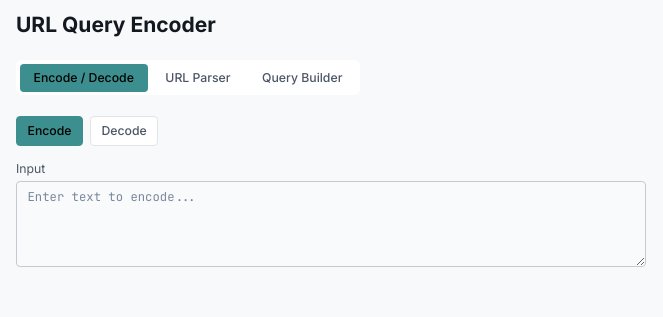
Test case: UrlQueryEncoder › Query Builder tab shows Add Row button when clicked
This screenshot has width=663, height=317.
Click the button "Query Builder": (302, 78) [248,64,356,92]
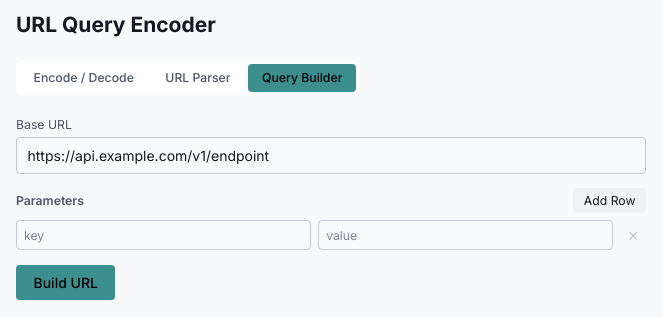
expect the button "Add Row" is shown: met, box [573,188,646,212]
